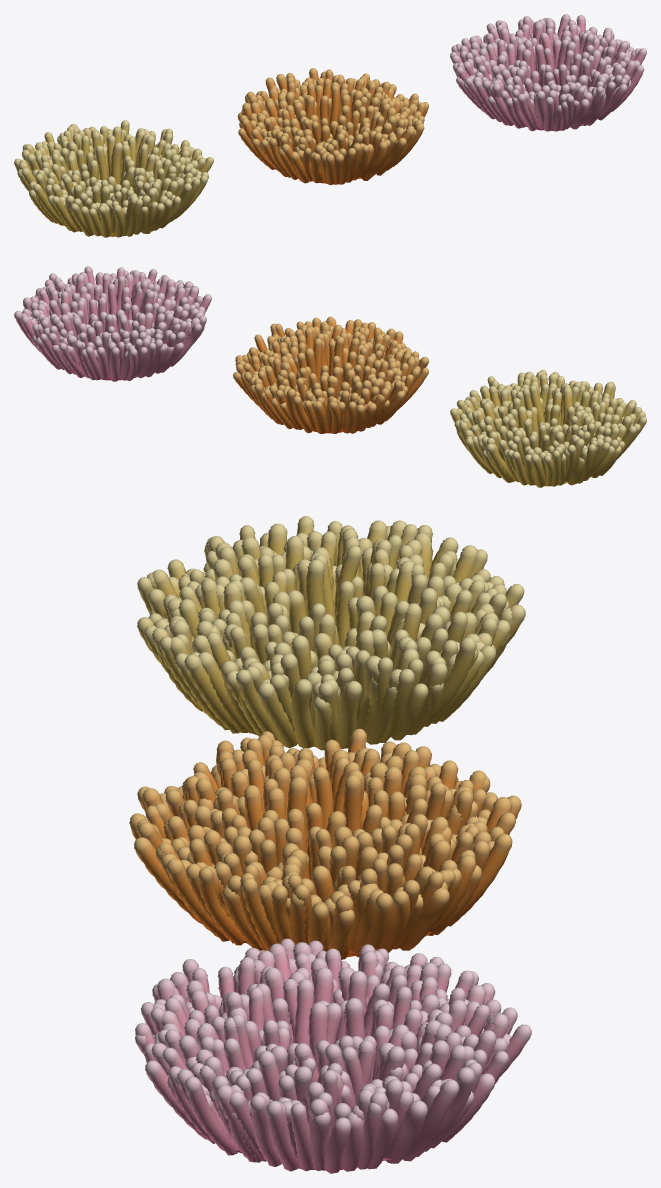
3 views of the same model, one above another, from view 1: azimuth 30°, elevation 25°; view 2: azimuth 150°, elevation 25°; view 3: azimuth 270°, elevation 25° (orthographic). The views are drawn at different scales.
Parts seen in each view (by area): view 1: magnificent-anemone.002, magnificent-anemone, magnificent-anemone.001; view 2: magnificent-anemone.001, magnificent-anemone.002, magnificent-anemone; view 3: magnificent-anemone.002, magnificent-anemone, magnificent-anemone.001.
Part boxes in pixels (left/top/right/bottom): magnificent-anemone.002: left=450, top=14, right=646, bottom=131; magnificent-anemone: left=14, top=120, right=213, bottom=237; magnificent-anemone.001: left=237, top=68, right=428, bottom=184; magnificent-anemone.001: left=233, top=316, right=429, bottom=433; magnificent-anemone.002: left=14, top=266, right=211, bottom=381; magnificent-anemone: left=450, top=369, right=646, bottom=487; magnificent-anemone.002: left=135, top=938, right=531, bottom=1173; magnificent-anemone: left=137, top=516, right=525, bottom=750; magnificent-anemone.001: left=129, top=728, right=521, bottom=959.
Size of the model in its own units: 8.28 by 0.9761 by 2.41.
